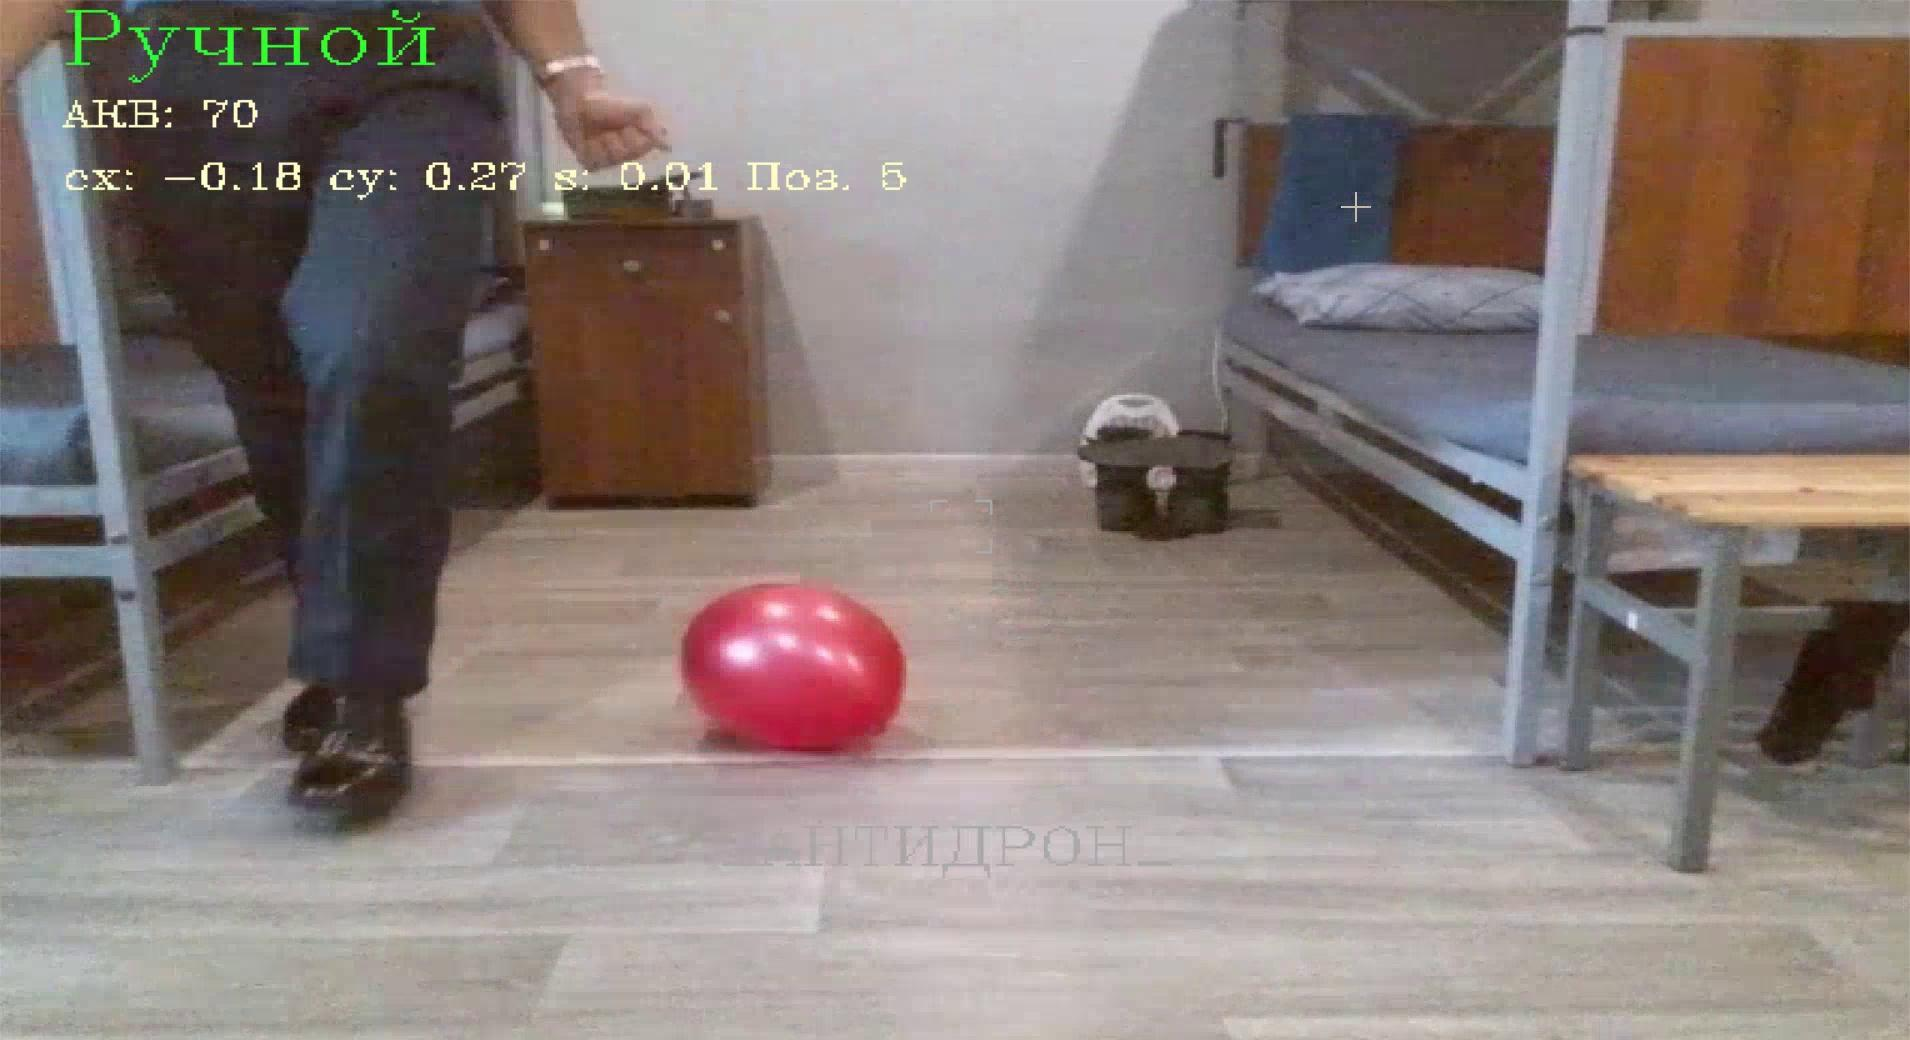red: (684, 581, 904, 756)
